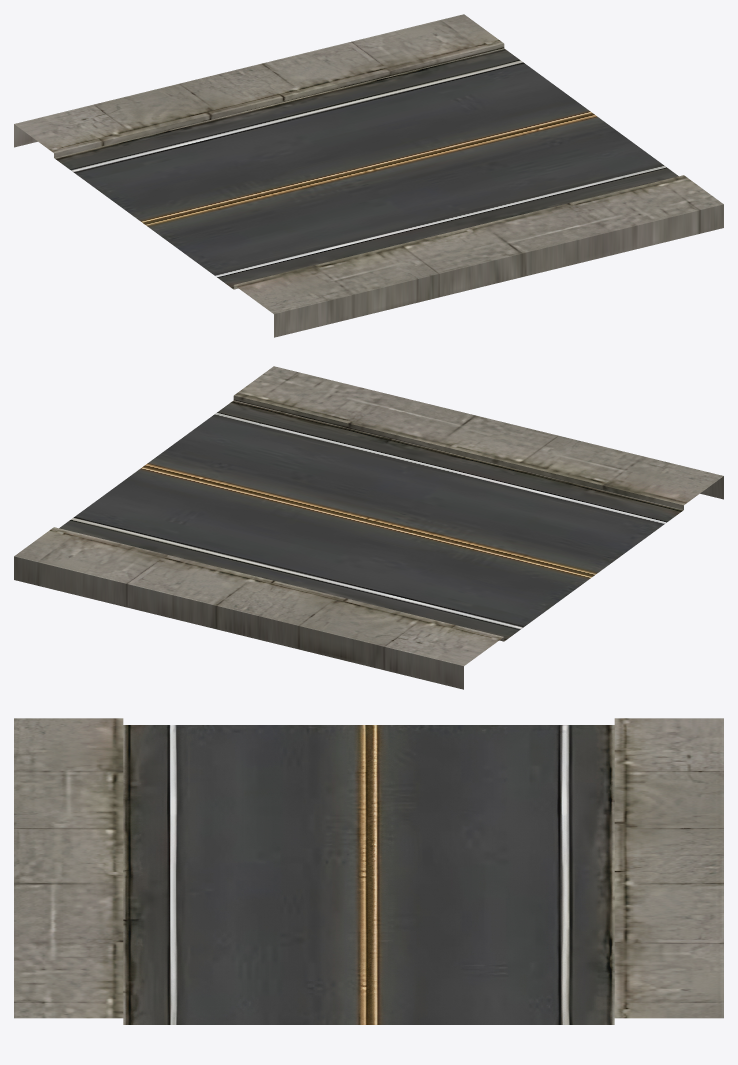
File: STREET_BLOCK.fbx
3 views of the same model, one above another, from view 1: azimuth 30°, elevation 25°; view 2: azimuth 150°, elevation 25°; view 3: azimuth 270°, elevation 25° (orthographic). The views are drawn at different scales.
Visible parts, largest first — view 1: STREET_BLOCK; view 2: STREET_BLOCK; view 3: STREET_BLOCK.
Boxes of the visible parts, x1,y1,x2,y2 form: STREET_BLOCK: (14,14,723,337); STREET_BLOCK: (14,366,723,689); STREET_BLOCK: (14,718,723,1024).
Bounding box in the file's own units: 898 × 44.91 × 898.
